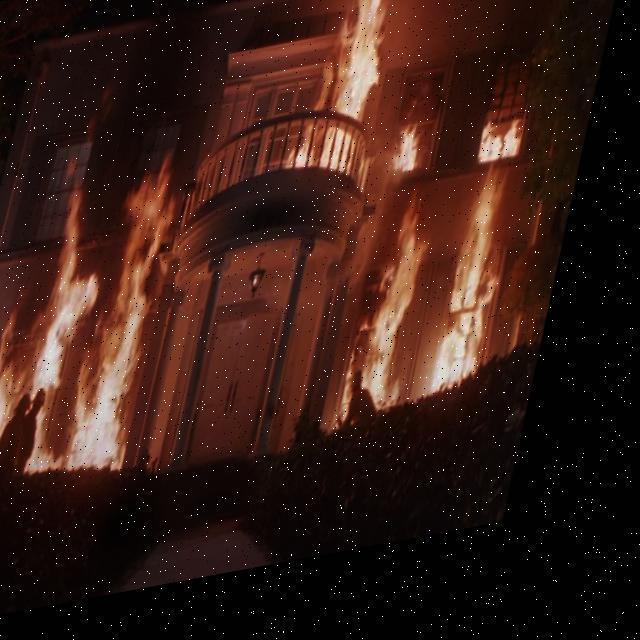Fire: (0, 151, 203, 508), (354, 125, 466, 444), (445, 122, 544, 413), (303, 0, 407, 204)
